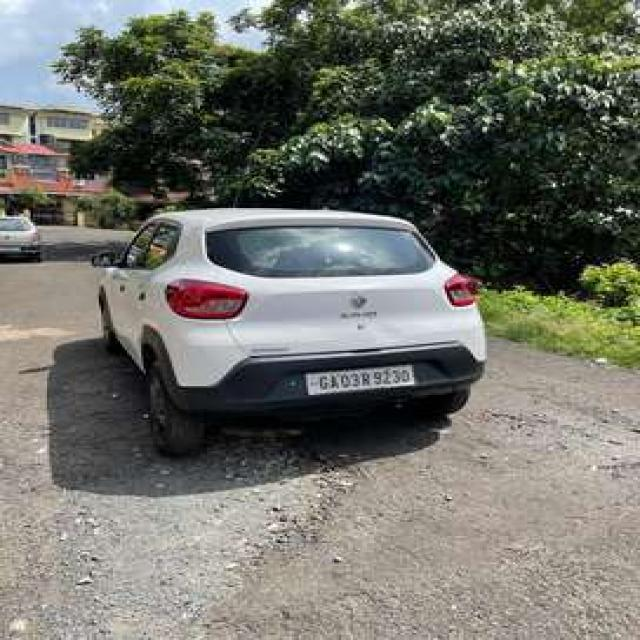licenseplate: (306, 365, 417, 394), (308, 374, 325, 390)
